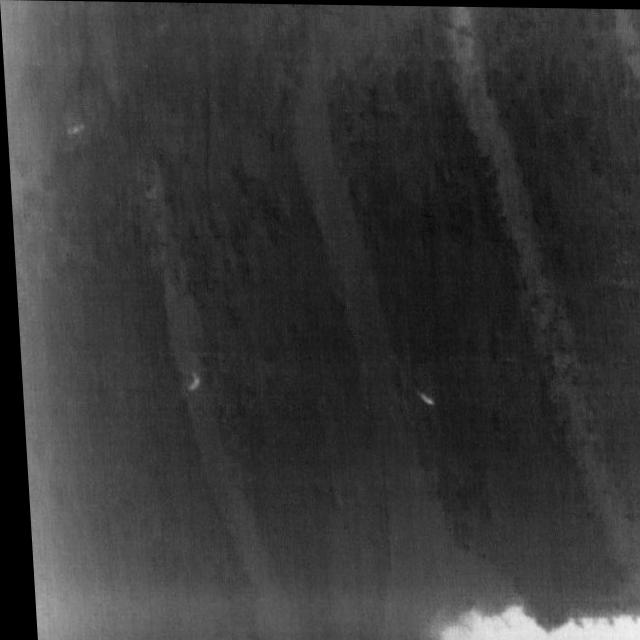deer: (182, 371, 197, 393), (411, 389, 429, 404)
